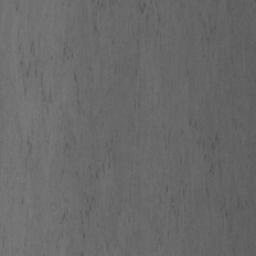Silk spot: (0, 15, 140, 256), (152, 118, 256, 256), (55, 0, 169, 110), (175, 0, 256, 76), (232, 80, 256, 128)
